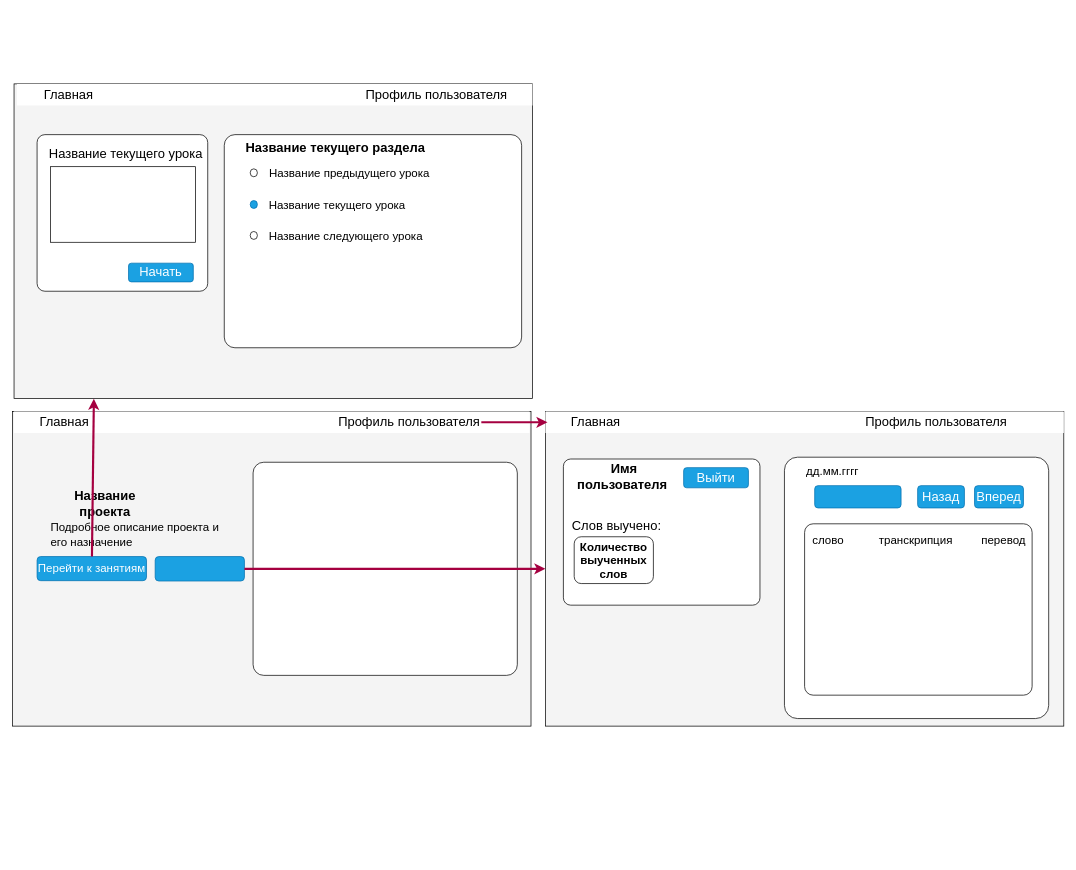
Image size: 1076x870. Some labels were removed from this diagram. Each missing label, with the centre of its shape:
Выбрать дату: the point at 857,496
Мой словарь: the point at 199,568
Описание текущего урока: the point at 122,204
Функционал, доступный пользователю:: the point at 384,568
